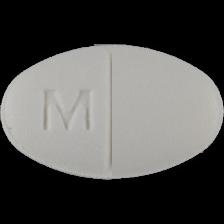61786-864: (0, 0, 224, 224)
